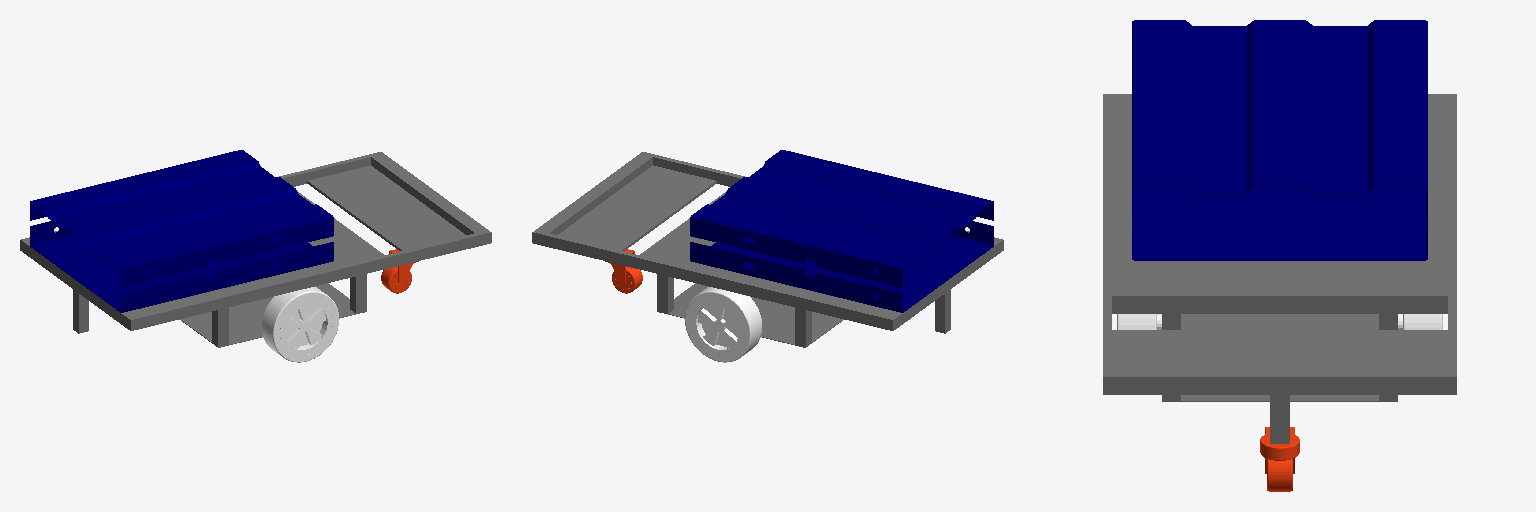
URDF robot description (urdf_test):
<?xml version="1.0" encoding="utf-8"?>
<!-- This URDF was automatically created by SolidWorks to URDF Exporter! Originally created by [author] ([email redacted]) 
     Commit Version: 1.6.0-4-g7f85cfe  Build Version: 1.6.7995.38578
     For more information, please see http://wiki.ros.org/sw_urdf_exporter -->
<robot
  name="urdf_test">
  <link
    name="Chassis">
    <inertial>
      <origin
        xyz="0.0203782438363387 -1.18383917687466E-17 -0.0153025459993687"
        rpy="0 0 3.14159" />
      <mass
        value="4.23560194791636" />
      <inertia
        ixx="0.048034439666328"
        ixy="-4.10992471940563E-17"
        ixz="0.00148548193132718"
        iyy="0.136863974165332"
        iyz="5.89771885316106E-18"
        izz="0.181214696041482" />
    </inertial>
    <visual>
      <origin
        xyz="0 0 0"
        rpy="0 0 3.14159" />
      <geometry>
        <mesh
          filename="package://urdf_test/meshes/Chassis.STL" />
      </geometry>
      <material name="grey">
      <color rgba="0.5 0.5 0.5 1"/>
      </material>
    </visual>
    <collision>
      <origin
        xyz="0 0 0"
        rpy="0 0 3.14159" />
      <geometry>
        <mesh
          filename="package://urdf_test/meshes/Chassis.STL" />
      </geometry>
    </collision>
  </link>
  <link
    name="Left_Wheel">
    <inertial>
      <origin
        xyz="-3.22342256156697E-18 1.38777878078145E-17 0.0347026647551488"
        rpy="0 0 0" />
      <mass
        value="0.39621849931908" />
      <inertia
        ixx="0.000485123108611313"
        ixy="-2.82104377803696E-20"
        ixz="1.67935343939584E-20"
        iyy="0.000485123108611313"
        iyz="-4.11956137070721E-20"
        izz="0.000874956594332577" />
    </inertial>
    <visual>
      <origin
        xyz="0 0 0"
        rpy="0 0 0" />
      <geometry>
        <mesh
          filename="package://urdf_test/meshes/Left_Wheel.STL" />
      </geometry>
     <material name="white">
      <color rgba="1 1 1 1"/>
      </material>
    </visual>
    <collision>
      <origin
        xyz="0 0 0"
        rpy="0 0 0" />
      <geometry>
        <mesh
          filename="package://urdf_test/meshes/Left_Wheel.STL" />
      </geometry>
    </collision>
  </link>
  <joint
    name="Left_Wheel_Joint"
    type="continuous">
    <origin
      xyz="0.071091 0.11 -0.098"
      rpy="-1.5708 0 0" />
    <parent
      link="Chassis" />
    <child
      link="Left_Wheel" />
    <axis
      xyz="0 0 1" />
    <limit
      effort="4.5"
      velocity="7.3" />
    <dynamics
      friction="0" />
  </joint>
  <link
    name="Right_Wheel">
    <inertial>
      <origin
        xyz="4.79414606914455E-18 2.77555756156289E-17 0.0347026647551487"
        rpy="0 0 0" />
      <mass
        value="0.39621849931908" />
      <inertia
        ixx="0.000485123108611313"
        ixy="5.99006926174706E-21"
        ixz="2.30794714615525E-20"
        iyy="0.000485123108611313"
        iyz="-4.42495676652561E-21"
        izz="0.000874956594332577" />
    </inertial>
    <visual>
      <origin
        xyz="0 0 0"
        rpy="0 0 0" />
      <geometry>
        <mesh
          filename="package://urdf_test/meshes/Right_Wheel.STL" />
      </geometry>
      <material name="white">
      <color rgba="1 1 1 1"/>
      </material>
    </visual>
    <collision>
      <origin
        xyz="0 0 0"
        rpy="0 0 0" />
      <geometry>
        <mesh
          filename="package://urdf_test/meshes/Right_Wheel.STL" />
      </geometry>
    </collision>
  </link>
  <joint
    name="Right_Wheel_Joint"
    type="continuous">
    <origin
      xyz="0.071091 -0.11 -0.098"
      rpy="1.5708 0 0" />
    <parent
      link="Chassis" />
    <child
      link="Right_Wheel" />
    <axis
      xyz="0 0 -1" />
    <limit
      effort="4.5"
      velocity="7.3" />
    <dynamics
      friction="0" />
  </joint>
  <link
    name="Front_Castor">
    <inertial>
      <origin
        xyz="-0.0233354390073933 -1.80883961580674E-09 -0.0229714404685051"
        rpy="0 0 0" />
      <mass
        value="0.0654106884528845" />
      <inertia
        ixx="1.38119157297847E-05"
        ixy="-1.97400217600618E-12"
        ixz="-1.47239013893213E-06"
        iyy="1.77868648525204E-05"
        iyz="1.1557540821217E-12"
        izz="1.36972583688958E-05" />
    </inertial>
    <visual>
      <origin
        xyz="0 0 0"
        rpy="0 0 0" />
      <geometry>
        <mesh
          filename="package://urdf_test/meshes/Front_Castor.STL" />
      </geometry>
     <material name="orange">
      <color rgba="1 0.3 0.1 1"/>
      </material>
    </visual>
    <collision>
      <origin
        xyz="0 0 0"
        rpy="0 0 0" />
      <geometry>
        <mesh
          filename="package://urdf_test/meshes/Front_Castor.STL" />
      </geometry>
    </collision>
  </link>
  <joint
    name="Front_Castor_Joint"
    type="fixed">
    <origin
      xyz="0.36779 0 -0.1005"
      rpy="0 0 0" />
    <parent
      link="Chassis" />
    <child
      link="Front_Castor" />
    <axis
      xyz="0 0 0" />
       <dynamics
      friction="0" />
  </joint>
  <link
    name="Rear_Castor">
    <inertial>
      <origin
        xyz="-0.0233354390073932 -1.80883961612269E-09 -0.0229714404685051"
        rpy="0 0 0" />
      <mass
        value="0.0654106884528846" />
      <inertia
        ixx="1.38119157297847E-05"
        ixy="-1.97400217603574E-12"
        ixz="-1.47239013893213E-06"
        iyy="1.77868648525204E-05"
        iyz="1.15575408219418E-12"
        izz="1.36972583688958E-05" />
    </inertial>
    <visual>
      <origin
        xyz="0 0 0"
        rpy="0 0 0" />
      <geometry>
        <mesh
          filename="package://urdf_test/meshes/Rear_Castor.STL" />
      </geometry>
      <material name="orange">
      <color rgba="1 0.3 0.1 1"/>
      </material>
    </visual>
    <collision>
      <origin
        xyz="0 0 0"
        rpy="0 0 0" />
      <geometry>
        <mesh
          filename="package://urdf_test/meshes/Rear_Castor.STL" />
      </geometry>
    </collision>
  </link>
  <joint
    name="Rear_Castor_Joint"
    type="fixed">
    <origin
      xyz="-0.25221 0 -0.1005"
      rpy="0 0 0" />
    <parent
      link="Chassis" />
    <child
      link="Rear_Castor" />
    <axis
      xyz="0 0 0" />
       <dynamics
      friction="0" />
  </joint>
  <link
    name="Lower_Base">
    <inertial>
      <origin
        xyz="-0.000279103374140138 1.35247805585943E-10 0.00862583000653431"
        rpy="0 0 0" />
      <mass
        value="1.46575361159457" />
      <inertia
        ixx="0.012172822804178"
        ixy="-4.42988226493302E-12"
        ixz="1.00284119810479E-05"
        iyy="0.0158283512149053"
        iyz="-1.29590731046659E-11"
        izz="0.027288819348399" />
    </inertial>
    <visual>
      <origin
        xyz="0 0 0"
        rpy="0 0 0" />
      <geometry>
        <mesh
          filename="package://urdf_test/meshes/Lower_Base.STL" />
      </geometry>
     <material name="blue">
      <color rgba="0 0 0.5 1"/>
      </material>
    </visual>
    <collision>
      <origin
        xyz="0 0 0"
        rpy="0 0 0" />
      <geometry>
        <mesh
          filename="package://urdf_test/meshes/Lower_Base.STL" />
      </geometry>
    </collision>
  </link>
  <joint
    name="Lower_Base_Joint"
    type="fixed">
    <origin
      xyz="-0.068909 0 0.001"
      rpy="0 0 0" />
    <parent
      link="Chassis" />
    <child
      link="Lower_Base" />
    <axis
      xyz="0 0 0" />
  </joint>
  <link
    name="Upper_Base">
    <inertial>
      <origin
        xyz="0.000444577303509469 3.740499966758E-09 0.0303987337399961"
        rpy="0 0 0" />
      <mass
        value="1.34490227704504" />
      <inertia
        ixx="0.0122660173428346"
        ixy="2.12906077548582E-11"
        ixz="2.1575768958881E-05"
        iyy="0.0162091918231284"
        iyz="-1.12189085592896E-10"
        izz="0.0277514861364729" />
    </inertial>
    <visual>
      <origin
        xyz="0 0 0"
        rpy="0 0 0" />
      <geometry>
        <mesh
          filename="package://urdf_test/meshes/Upper_Base.STL" />
      </geometry>
      <material name="blue">
      <color rgba="0 0 0.5 1"/>
      </material>
    </visual>
    <collision>
      <origin
        xyz="0 0 0"
        rpy="0 0 0" />
      <geometry>
        <mesh
          filename="package://urdf_test/meshes/Upper_Base.STL" />
      </geometry>
    </collision>
  </link>
  <joint
    name="Upper_Base_Joint"
    type="prismatic">
    <origin
      xyz="-0.00015743 0 0.040238"
      rpy="0 0 0" />
    <parent
      link="Lower_Base" />
    <child
      link="Upper_Base" />
    <axis
      xyz="0 0 1" />
    <limit
      lower="0"
      upper="0.04"
      effort="100"
      velocity="0.01" />
  </joint>
</robot>

--- What the picture shows (computed from the rendered views, not written in the file) ---
3 views of the same robot in one strip: view 1: azimuth 30°, elevation 25°; view 2: azimuth 150°, elevation 25°; view 3: azimuth 270°, elevation 25° (orthographic).
Robot: urdf_test — 7 links, 6 joints (2 continuous, 1 prismatic, 3 fixed); root link Chassis; default pose: all joints at 0.
Visible links, largest first — view 1: Upper_Base, Chassis, Lower_Base, Right_Wheel, Front_Castor; view 2: Upper_Base, Chassis, Lower_Base, Left_Wheel, Front_Castor; view 3: Chassis, Upper_Base, Lower_Base, Front_Castor, Left_Wheel, Right_Wheel.
Link boxes in pixels (left/top/right/bottom): Upper_Base: left=30, top=150, right=333, bottom=287; Chassis: left=20, top=152, right=491, bottom=347; Lower_Base: left=30, top=221, right=333, bottom=312; Right_Wheel: left=262, top=287, right=338, bottom=362; Front_Castor: left=381, top=249, right=418, bottom=293; Upper_Base: left=690, top=150, right=993, bottom=287; Chassis: left=532, top=152, right=1003, bottom=347; Lower_Base: left=690, top=221, right=993, bottom=312; Left_Wheel: left=685, top=287, right=761, bottom=362; Front_Castor: left=605, top=249, right=642, bottom=293; Chassis: left=1103, top=94, right=1456, bottom=443; Upper_Base: left=1132, top=20, right=1427, bottom=218; Lower_Base: left=1132, top=188, right=1427, bottom=260; Front_Castor: left=1260, top=427, right=1299, bottom=491; Left_Wheel: left=1398, top=314, right=1442, bottom=329; Right_Wheel: left=1117, top=314, right=1161, bottom=329.
Size in the robot's own frame: 0.6803 by 0.36 by 0.2425 metres.
6 mesh visuals loaded from 7 distinct referenced files (6 binary STL); not drawn: 1 (reference not matched to a file when rendering).